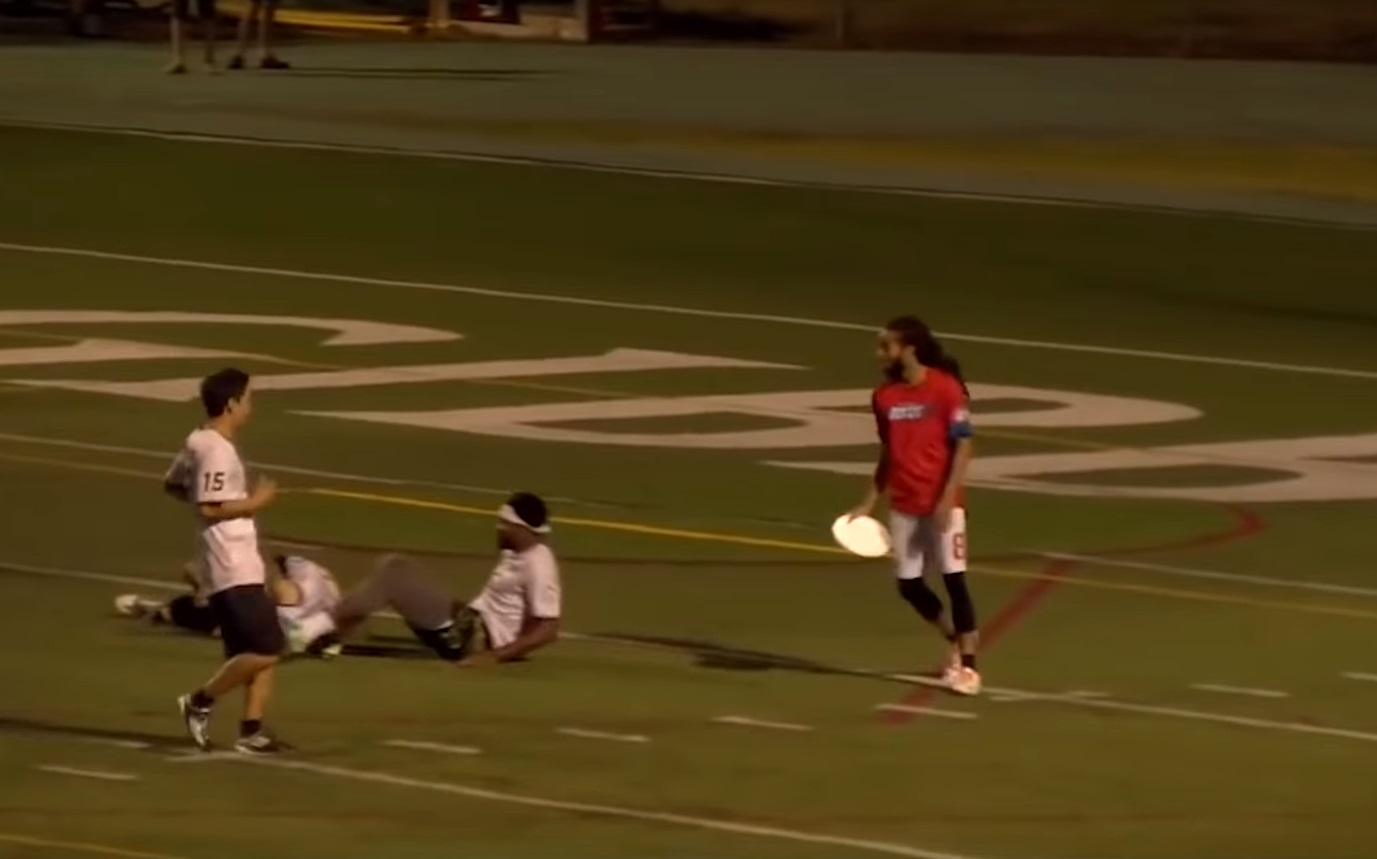frisbee: (831, 512, 893, 558)
